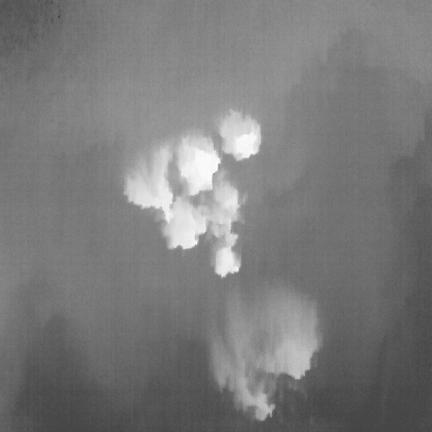flukeprints: (124, 147, 173, 220), (163, 197, 206, 249), (178, 140, 219, 194), (219, 110, 261, 159), (215, 246, 240, 277)
